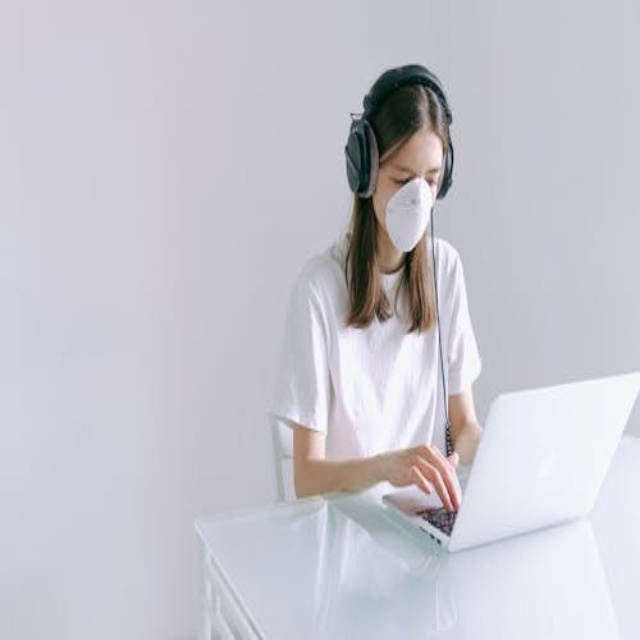Mascara: (383, 174, 434, 254)
Sin_gafas: (392, 154, 439, 190)
Sin_guantes: (380, 440, 460, 517)
